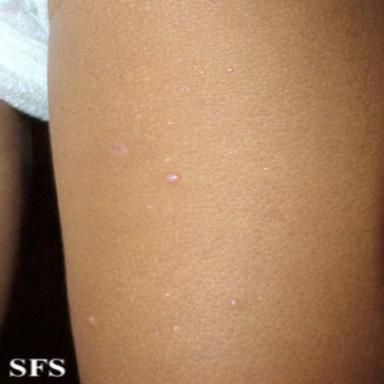Molluscum-Contagiosum: (165, 173, 182, 184), (172, 325, 180, 333), (87, 316, 95, 324), (230, 299, 238, 305), (226, 67, 234, 73), (200, 71, 206, 76), (180, 88, 186, 92)
